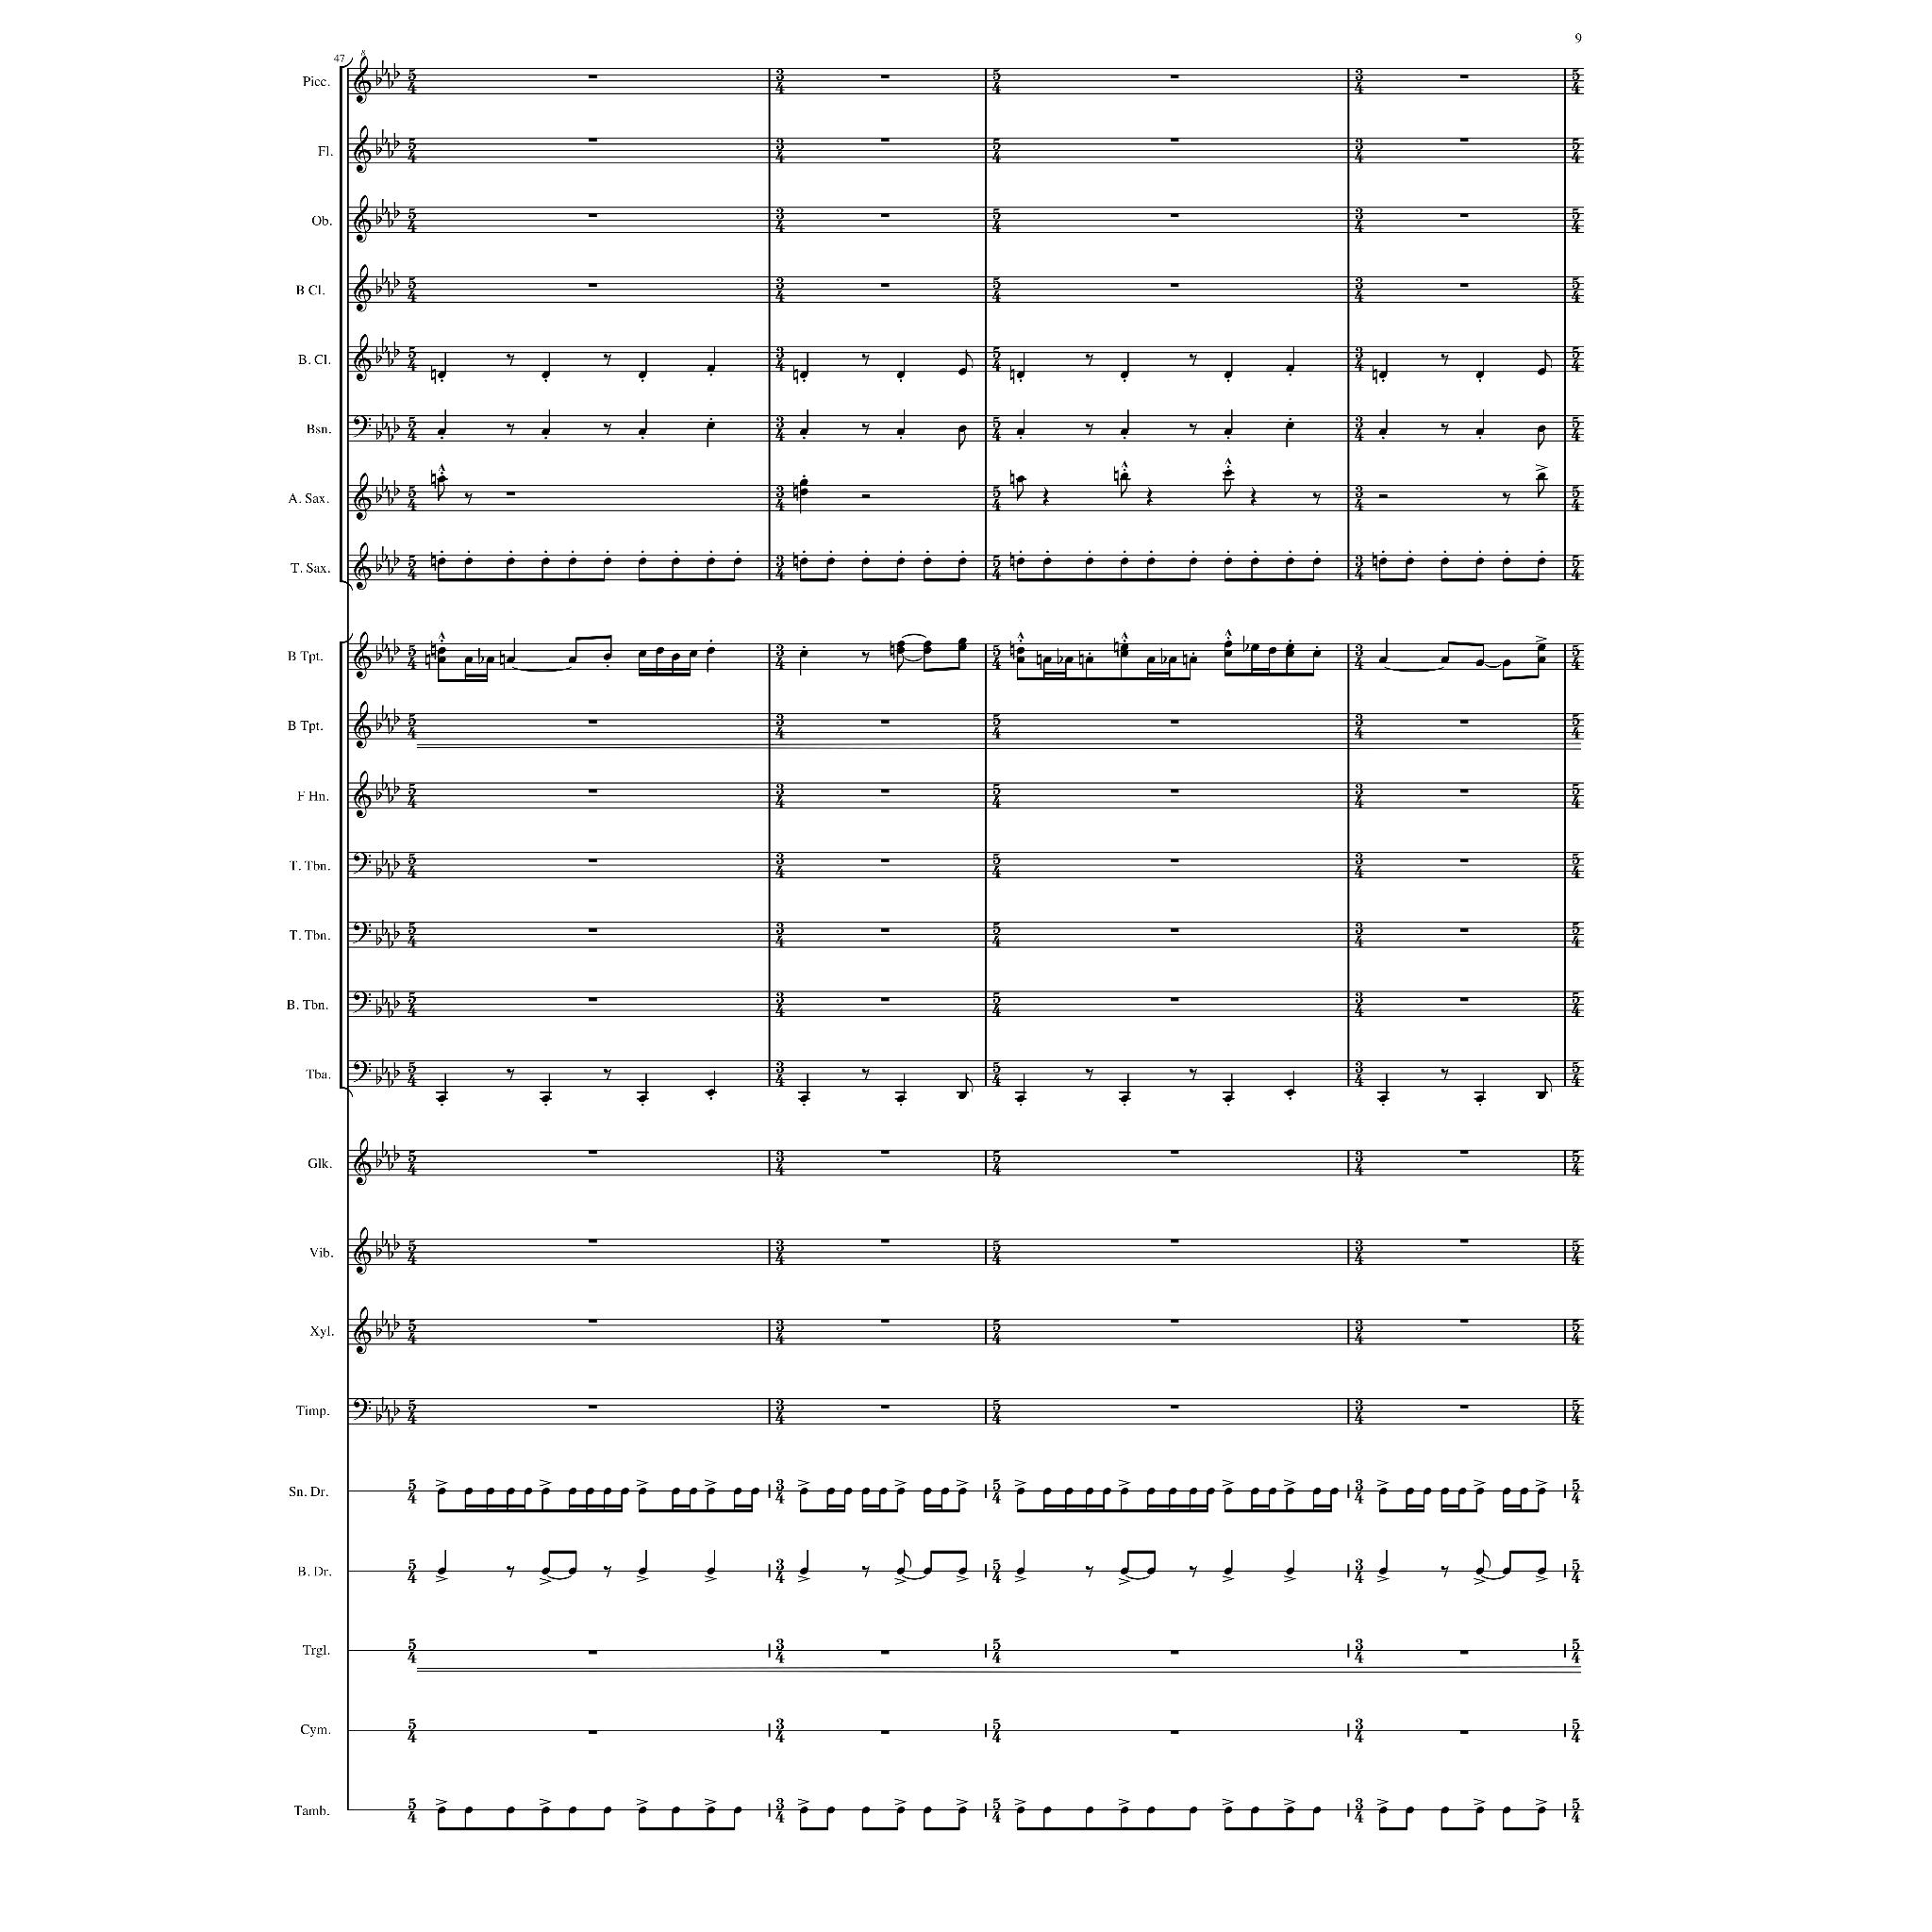fClef: (352, 1398, 370, 1421), (352, 416, 370, 437), (352, 991, 370, 1012), (352, 1062, 370, 1083), (352, 853, 370, 874), (352, 922, 370, 943)
flag8thDown: (1224, 479, 1231, 499), (1120, 479, 1127, 499), (1537, 479, 1545, 499), (437, 481, 444, 501), (897, 653, 904, 672), (1537, 432, 1545, 449), (957, 432, 964, 449), (1017, 481, 1023, 501)
flag8thUp: (1483, 1550, 1490, 1569), (1545, 1074, 1552, 1092), (1545, 350, 1552, 368), (904, 1550, 909, 1569), (966, 1074, 971, 1092), (966, 350, 971, 368)
gClef: (352, 333, 370, 382), (352, 541, 370, 591), (352, 630, 370, 679), (352, 770, 370, 819), (352, 472, 370, 520), (352, 126, 370, 173), (352, 55, 370, 103), (352, 195, 370, 242), (352, 264, 370, 311), (352, 1138, 370, 1185), (352, 1226, 370, 1274), (352, 701, 370, 748), (352, 1306, 370, 1353)
noteheadBlack: (1223, 649, 1231, 658), (1284, 1088, 1293, 1097), (1311, 649, 1320, 658), (1284, 364, 1293, 373), (1284, 421, 1293, 430), (1284, 649, 1293, 658), (1267, 646, 1276, 655), (655, 646, 663, 655), (637, 649, 646, 658), (922, 646, 931, 655), (688, 649, 697, 658), (895, 646, 904, 655), (1016, 646, 1024, 655), (798, 649, 807, 658), (798, 478, 807, 487), (706, 421, 715, 430), (706, 364, 715, 373), (706, 1088, 715, 1097), (706, 646, 715, 655), (1223, 1568, 1231, 1575), (1223, 1806, 1231, 1813), (1223, 1488, 1231, 1495), (1223, 1095, 1231, 1102), (1223, 640, 1231, 648), (1223, 372, 1231, 379), (1223, 428, 1231, 435), (1223, 469, 1231, 476), (1223, 557, 1231, 564), (1284, 1488, 1293, 1495), (1284, 1568, 1293, 1575), (1284, 1806, 1293, 1813), (1311, 557, 1320, 564), (1311, 1488, 1320, 1495), (1311, 1806, 1320, 1813), (1251, 1488, 1260, 1495), (1251, 1806, 1260, 1813), (1251, 644, 1260, 651), (1251, 557, 1260, 564), (1284, 557, 1293, 564), (1284, 644, 1293, 651), (1267, 1488, 1276, 1495), (1042, 557, 1051, 564), (1042, 656, 1051, 663), (1042, 1488, 1051, 1495), (1042, 1806, 1051, 1813), (1085, 656, 1093, 663), (1085, 1488, 1093, 1495), (1085, 1806, 1093, 1813), (1085, 557, 1093, 564), (1063, 656, 1072, 663), (1063, 1488, 1072, 1495), (1168, 656, 1177, 663), (1168, 1488, 1177, 1495), (1102, 1488, 1111, 1495), (1120, 649, 1127, 658), (1536, 1806, 1545, 1813), (1536, 557, 1545, 564), (1536, 368, 1545, 375), (1536, 425, 1545, 432), (1536, 472, 1545, 479), (1536, 656, 1545, 663), (1536, 644, 1545, 651), (1536, 1092, 1545, 1099), (1536, 1488, 1545, 1495), (1536, 1568, 1545, 1575), (1520, 1488, 1529, 1495), (1378, 557, 1387, 564), (1378, 656, 1387, 663), (1378, 428, 1387, 435), (1378, 1095, 1387, 1102), (1378, 372, 1387, 379), (1378, 1488, 1387, 1495), (1378, 1568, 1387, 1575), (1378, 1806, 1387, 1813), (1405, 557, 1414, 564), (1440, 557, 1449, 564), (1422, 1488, 1431, 1495), (1440, 656, 1449, 663), (1440, 1488, 1449, 1495), (1440, 1806, 1449, 1813), (1405, 1488, 1414, 1495), (1405, 1806, 1414, 1813), (541, 1568, 550, 1575), (541, 1806, 550, 1813), (541, 1488, 550, 1495), (541, 372, 550, 379), (541, 428, 550, 435), (541, 557, 550, 564), (541, 1095, 550, 1102), (568, 656, 577, 663), (568, 1488, 577, 1495), (568, 1568, 577, 1575), (568, 1806, 577, 1813), (568, 557, 577, 564), (506, 557, 515, 564), (506, 656, 515, 663), (506, 1488, 515, 1495), (485, 656, 494, 663), (485, 1488, 494, 1495), (506, 1806, 515, 1813), (637, 1095, 646, 1102), (637, 1488, 646, 1495), (637, 1568, 646, 1575), (637, 1806, 646, 1813), (671, 557, 679, 564), (671, 653, 679, 660), (671, 1488, 679, 1495), (671, 1806, 679, 1813), (602, 557, 610, 564), (602, 653, 610, 660), (602, 1488, 610, 1495), (602, 1806, 610, 1813), (586, 1488, 594, 1495), (637, 372, 646, 379), (637, 428, 646, 435), (637, 557, 646, 564), (464, 1806, 472, 1813), (464, 557, 472, 564), (464, 656, 472, 663), (464, 1488, 472, 1495), (437, 646, 444, 655), (922, 557, 931, 564), (939, 1488, 948, 1495), (957, 368, 966, 375), (922, 640, 931, 648), (922, 1488, 931, 1495), (922, 1568, 931, 1575), (922, 1806, 931, 1813), (895, 1095, 904, 1102), (895, 372, 904, 379), (895, 428, 904, 435), (895, 557, 904, 564), (895, 640, 904, 648), (895, 1488, 904, 1495), (895, 1568, 904, 1575), (895, 1806, 904, 1813), (957, 425, 966, 432), (878, 1488, 886, 1495), (1016, 1095, 1024, 1102), (1016, 1488, 1024, 1495), (1016, 1568, 1024, 1575), (1016, 1806, 1024, 1813), (957, 1806, 966, 1813), (957, 557, 966, 564), (957, 644, 966, 651), (957, 637, 966, 644), (957, 1092, 966, 1099), (957, 1488, 966, 1495), (957, 1568, 966, 1575), (1016, 656, 1024, 663), (1016, 428, 1024, 435), (1016, 476, 1024, 483), (1016, 557, 1024, 564), (1016, 372, 1024, 379), (798, 1568, 807, 1575), (798, 1488, 807, 1495), (798, 1806, 807, 1813), (798, 557, 807, 564), (798, 1095, 807, 1102), (706, 1806, 715, 1813), (706, 1568, 715, 1575), (732, 1806, 741, 1813), (732, 557, 741, 564), (732, 1488, 741, 1495), (798, 372, 807, 379), (798, 428, 807, 435), (798, 488, 807, 495), (750, 1488, 759, 1495), (688, 1488, 697, 1495), (842, 1488, 851, 1495), (826, 557, 835, 564), (826, 1488, 835, 1495), (826, 1806, 835, 1813), (706, 1488, 715, 1495), (706, 557, 715, 564), (1189, 1806, 1196, 1813), (1189, 557, 1196, 564), (1189, 656, 1196, 663), (1189, 1488, 1196, 1495), (1207, 1488, 1214, 1495), (1146, 557, 1154, 564), (1146, 656, 1154, 663), (1146, 1488, 1154, 1495), (1146, 1568, 1154, 1575), (1146, 1806, 1154, 1813), (1120, 372, 1127, 379), (1120, 1806, 1127, 1813), (1120, 644, 1127, 651), (1120, 428, 1127, 435), (1120, 472, 1127, 479), (1120, 557, 1127, 564), (1120, 1095, 1127, 1102), (1120, 1488, 1127, 1495), (1120, 1568, 1127, 1575), (1502, 557, 1509, 564), (1502, 660, 1509, 667), (1502, 1488, 1509, 1495), (1502, 1568, 1509, 1575), (1502, 1806, 1509, 1813), (1330, 1488, 1338, 1495), (1458, 1488, 1465, 1495), (1476, 1095, 1483, 1102), (1476, 372, 1483, 379), (1476, 428, 1483, 435), (1476, 557, 1483, 564), (1476, 660, 1483, 667), (1476, 1488, 1483, 1495), (1476, 1568, 1483, 1575), (1476, 1806, 1483, 1813), (524, 1488, 531, 1495), (621, 1488, 628, 1495), (437, 1568, 444, 1575), (437, 1806, 444, 1813), (437, 1488, 444, 1495), (437, 372, 444, 379), (437, 428, 444, 435), (437, 476, 444, 483), (437, 557, 444, 564), (437, 656, 444, 663), (437, 1095, 444, 1102), (862, 557, 869, 564), (862, 1488, 869, 1495), (862, 1806, 869, 1813)
rest8th: (1085, 1069, 1093, 1081), (1085, 1566, 1093, 1578), (1085, 354, 1093, 366), (1085, 423, 1093, 435), (602, 1069, 610, 1081), (602, 1566, 610, 1578), (602, 423, 610, 435), (602, 354, 610, 366), (464, 494, 472, 506), (1189, 1566, 1196, 1578), (1189, 354, 1196, 366), (1189, 423, 1196, 435), (1189, 1069, 1196, 1081), (1313, 494, 1320, 506), (1502, 494, 1509, 506), (1440, 354, 1447, 366), (1440, 423, 1447, 435), (1440, 1069, 1447, 1081), (1440, 1566, 1447, 1578), (506, 354, 513, 366), (506, 423, 513, 435), (506, 1069, 513, 1081), (506, 1566, 513, 1578), (862, 1069, 869, 1081), (862, 354, 869, 366), (862, 423, 869, 435), (862, 1566, 869, 1578), (862, 651, 869, 663)
restHalf: (1378, 494, 1387, 499), (862, 494, 869, 499)
restQuarter: (1249, 487, 1256, 506), (1042, 487, 1049, 506), (1146, 487, 1152, 506)
restWhole: (1169, 1318, 1178, 1323), (879, 1318, 888, 1323), (587, 1318, 596, 1323), (1460, 1318, 1467, 1323), (879, 214, 888, 218), (879, 720, 888, 724), (879, 283, 888, 287), (879, 74, 888, 78), (879, 138, 888, 142), (879, 789, 888, 793), (1169, 283, 1178, 287), (1169, 858, 1178, 862), (1169, 789, 1178, 793), (1169, 720, 1178, 724), (1169, 214, 1178, 218), (1169, 138, 1178, 142), (1169, 74, 1178, 78), (1169, 1730, 1178, 1734), (1169, 1651, 1178, 1654), (1169, 1405, 1178, 1408), (1169, 1238, 1178, 1242), (1169, 1150, 1178, 1154), (1169, 998, 1178, 1001), (1169, 929, 1178, 932), (879, 1651, 888, 1654), (879, 1730, 888, 1734), (879, 998, 888, 1001), (879, 1150, 888, 1154), (879, 1238, 888, 1242), (879, 929, 888, 932), (879, 858, 888, 862), (879, 1405, 888, 1408), (506, 492, 515, 495), (587, 1730, 596, 1734), (587, 789, 596, 793), (587, 74, 596, 78), (587, 138, 596, 142), (587, 214, 596, 218), (587, 283, 596, 287), (587, 720, 596, 724), (587, 858, 596, 862), (587, 929, 596, 932), (587, 998, 596, 1001), (587, 1150, 596, 1154), (587, 1238, 596, 1242), (587, 1405, 596, 1408), (587, 1651, 596, 1654), (1460, 1150, 1467, 1154), (1460, 74, 1467, 78), (1460, 138, 1467, 142), (1460, 214, 1467, 218), (1460, 283, 1467, 287), (1460, 720, 1467, 724), (1460, 789, 1467, 793), (1460, 858, 1467, 862), (1460, 929, 1467, 932), (1460, 998, 1467, 1001), (1460, 1238, 1467, 1242), (1460, 1405, 1467, 1408), (1460, 1651, 1467, 1654), (1460, 1730, 1467, 1734)
